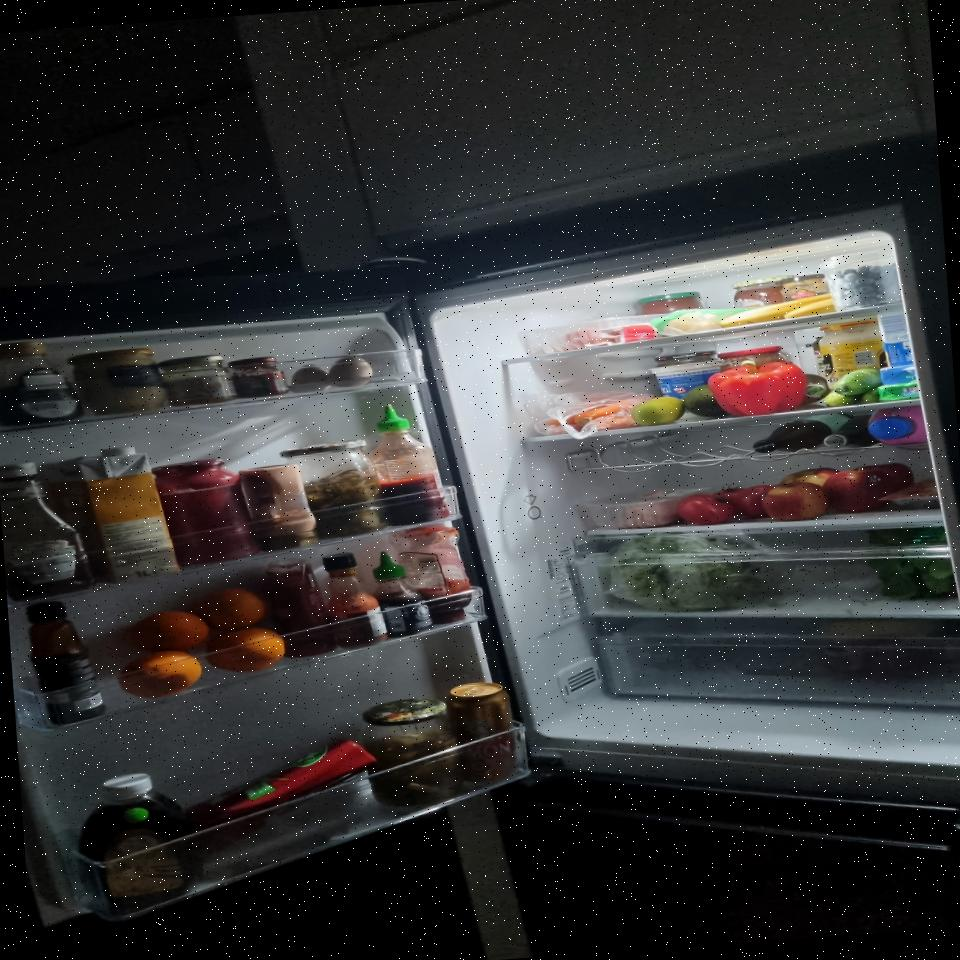Aguacate: (684, 386, 730, 420)
Carne pollo: (582, 485, 710, 530), (534, 326, 624, 357)
Huevos: (289, 355, 374, 393)
Leche: (54, 441, 184, 590)
Lechuga/Endivia: (606, 524, 784, 618)
Mantequilla: (876, 311, 917, 368), (877, 382, 921, 402), (879, 364, 918, 386)
Manzana: (824, 467, 890, 512), (768, 481, 830, 523), (786, 468, 838, 487)
Pepino: (822, 368, 882, 407)
Plátano: (721, 292, 842, 325)
Tomate: (680, 493, 734, 527), (732, 485, 774, 516)
Yogur: (650, 360, 724, 400)
Zanahoria: (536, 391, 638, 435)
bell pepper: (708, 360, 804, 418)
blueberries: (826, 258, 905, 310)
ketchup: (179, 738, 376, 840), (389, 524, 483, 628), (262, 557, 343, 660)
lime: (631, 396, 684, 427)
mayonnaise: (817, 317, 892, 384)
mustard: (67, 347, 166, 418)
orange: (121, 650, 204, 701), (192, 584, 268, 630), (210, 628, 285, 672), (139, 609, 209, 653)
